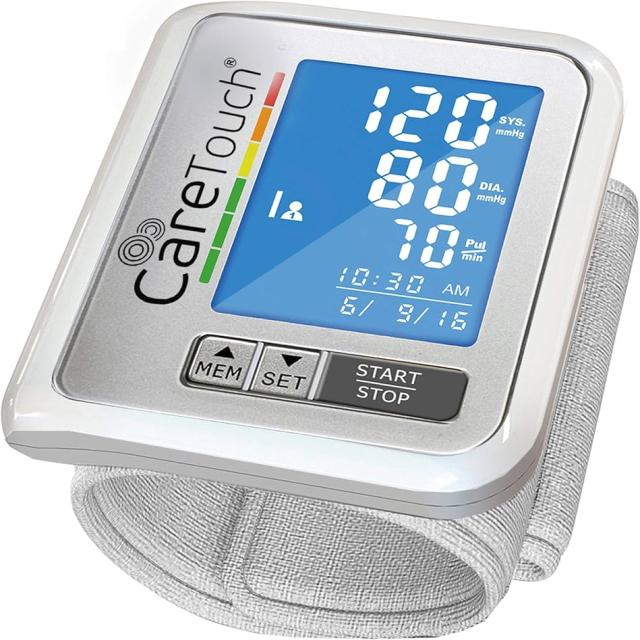dia: (352, 139, 489, 223)
pul: (371, 208, 467, 277)
ssd: (211, 20, 544, 380)
sys: (351, 74, 500, 152)
